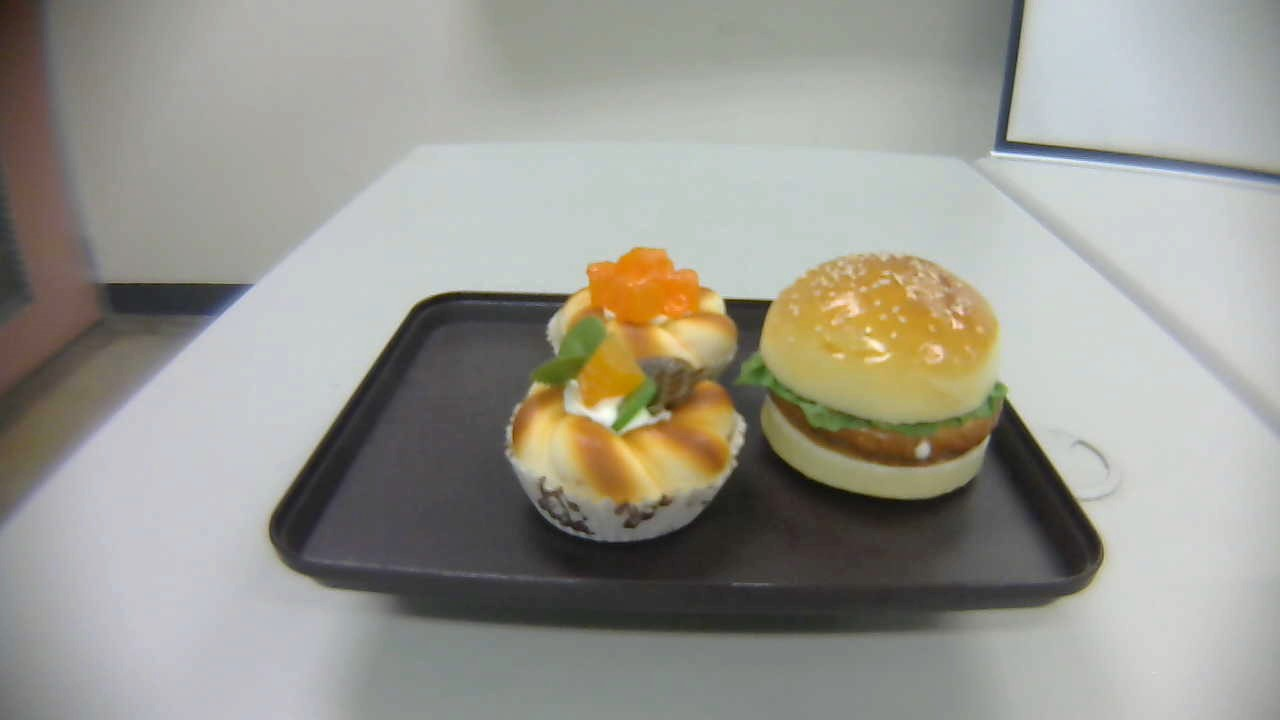fruit tart: (505, 318, 748, 548)
hamburger: (759, 251, 1011, 499)
mango tart: (546, 245, 738, 394)
